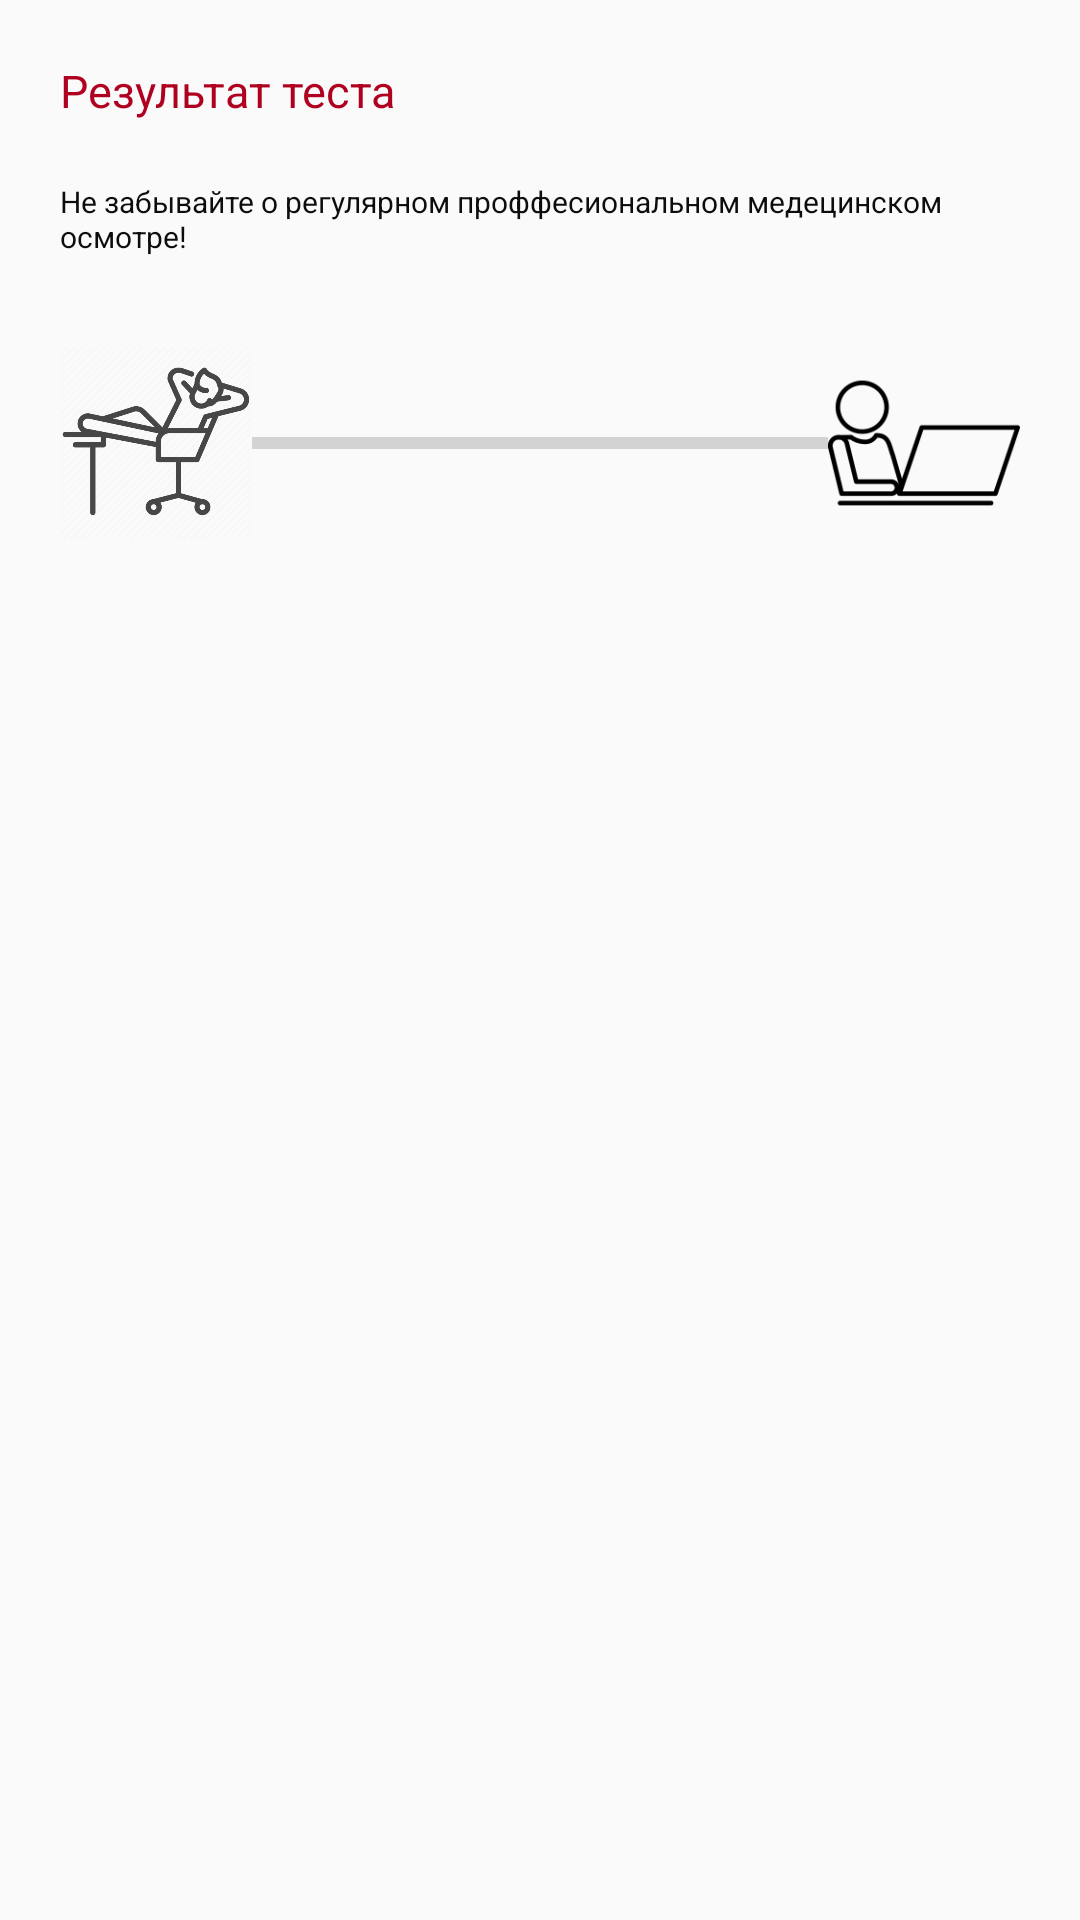

Screen size 1080w x 1920h. Icon name, then its box in pixels as (x1, y1, x2, y2):
chill: (62, 367, 249, 515)
work: (828, 380, 1020, 506)
